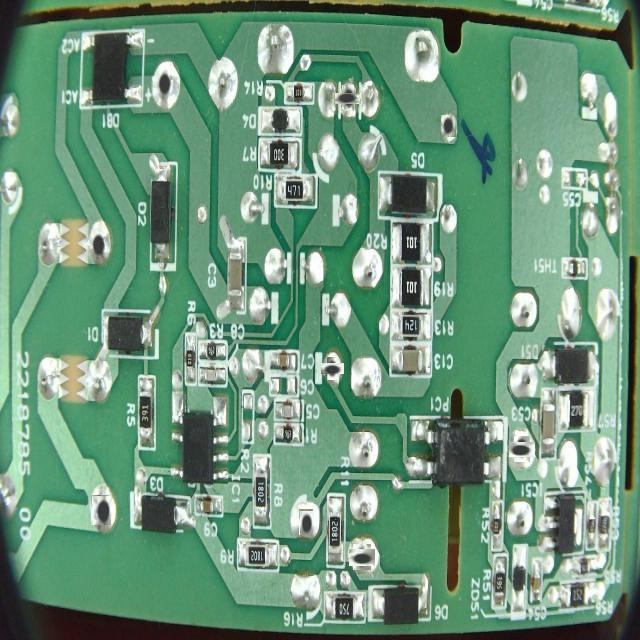damged: (92, 495, 112, 525), (156, 69, 174, 99), (351, 546, 373, 568), (90, 229, 106, 259), (512, 439, 532, 460), (338, 89, 358, 108), (440, 114, 456, 137), (299, 510, 313, 536), (324, 360, 342, 377)
